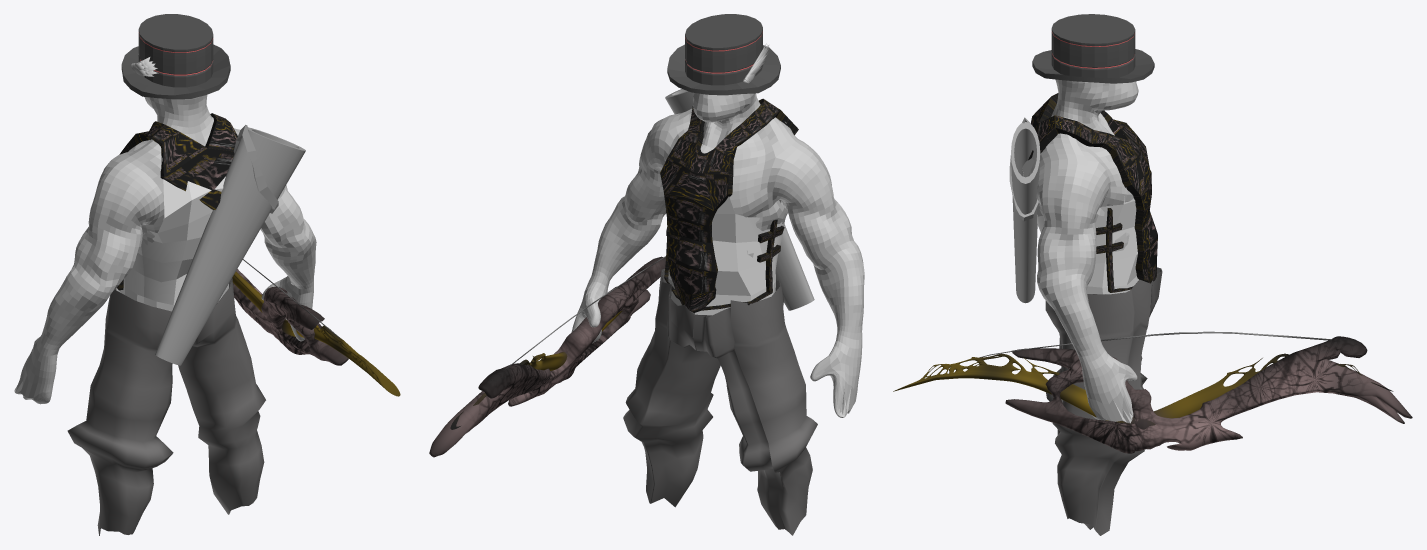
Rendered from Ranger.fbx.
The picture shows the model from 3 angles, left to right: view 1: azimuth 30°, elevation 25°; view 2: azimuth 150°, elevation 25°; view 3: azimuth 270°, elevation 25°; orthographic projection. The views are drawn at different scales.
Visible parts, largest first — view 1: polySurface179, polySurface180; view 2: polySurface179, polySurface180; view 3: polySurface179, polySurface180.
Part boxes in pixels (bbox=[...]): polySurface179: bbox=[14, 14, 316, 535]; polySurface180: bbox=[232, 259, 400, 396]; polySurface179: bbox=[571, 14, 864, 535]; polySurface180: bbox=[429, 256, 665, 457]; polySurface179: bbox=[1009, 14, 1162, 535]; polySurface180: bbox=[893, 331, 1412, 453].
Bounding box in the file's own units: 2.73 × 4.4 × 4.34.
